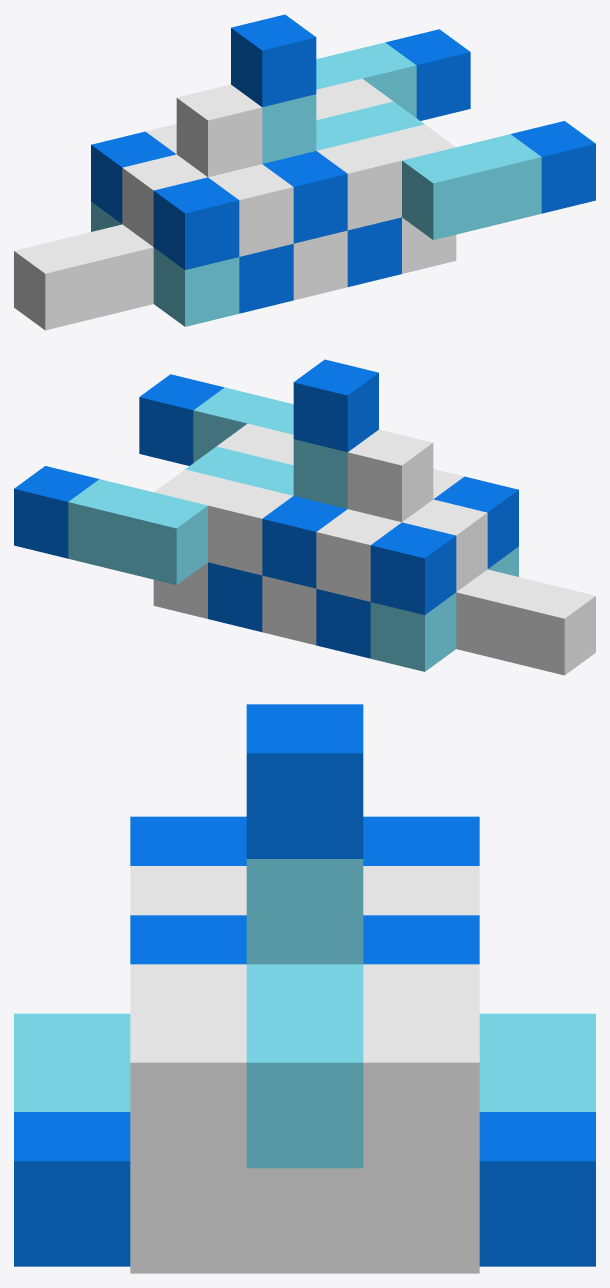
File: Dolphin_Attack.obj
3 views of the same model, one above another, from view 1: azimuth 30°, elevation 25°; view 2: azimuth 150°, elevation 25°; view 3: azimuth 270°, elevation 25° (orthographic). The views are drawn at different scales.
Bounding box in the file's own units: 0.9 × 0.4 × 0.5.
1 material, 1 textured.
